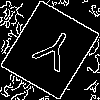Y: (25, 25, 80, 82)
